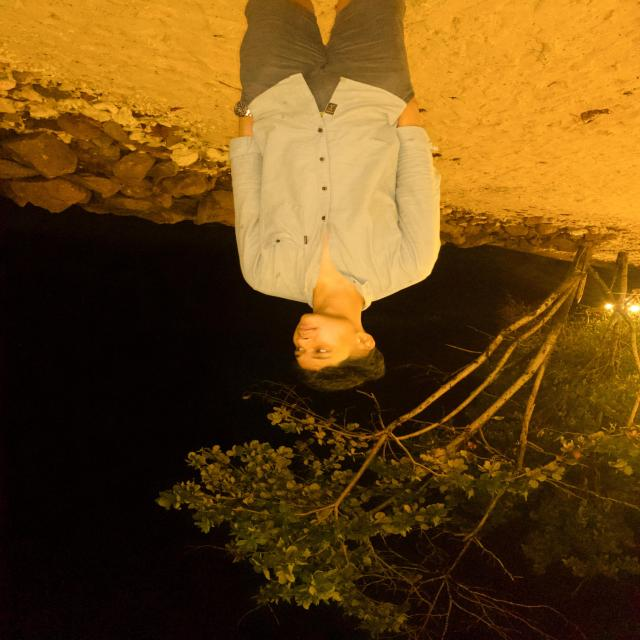nohelmet: (274, 306, 401, 388)
